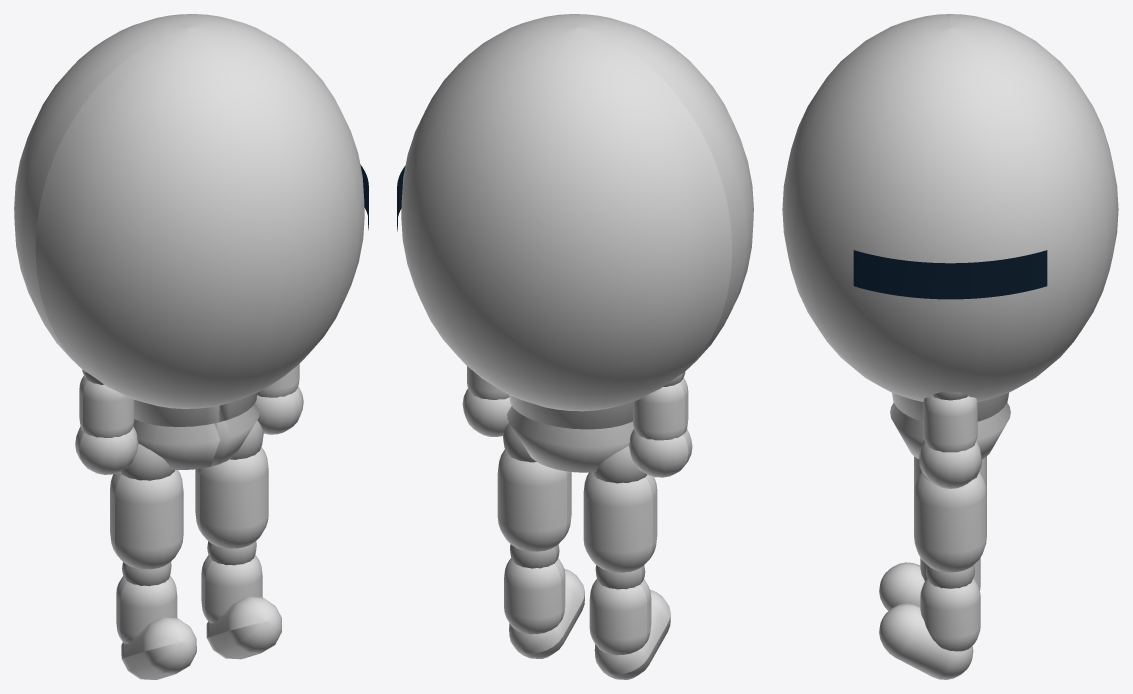
File: chibi.glb
The picture shows the model from 3 angles, left to right: view 1: azimuth 30°, elevation 25°; view 2: azimuth 150°, elevation 25°; view 3: azimuth 270°, elevation 25°; orthographic projection. The views are drawn at different scales.
Parts seen in each view (by area): view 1: HeadMesh, Torso, Thigh_L, Thigh_R, Foot_L, Foot_R, Shin_R, Shin_L, ForeArm_L, Hand_L, Hand_R, Joint_LH (+4 smaller); view 2: HeadMesh, Torso, Thigh_L, Thigh_R, Shin_L, Shin_R, ForeArm_L, Foot_R, Foot_L, Hand_L, Hand_R, Joint_LH (+4 smaller); view 3: HeadMesh, Visor, Thigh_R, Foot_R, Shin_R, Torso, ForeArm_R, Hand_R, Foot_L, Joint_RK.
Boxes of the visible parts, x1=… form: HeadMesh: x1=14, y1=14, x2=364, y2=408; Torso: x1=133, y1=393, x2=259, y2=469; Thigh_L: x1=110, y1=470, x2=183, y2=569; Thigh_R: x1=195, y1=447, x2=268, y2=548; Foot_L: x1=121, y1=617, x2=196, y2=679; Foot_R: x1=206, y1=596, x2=281, y2=659; Shin_R: x1=201, y1=555, x2=262, y2=623; Shin_L: x1=116, y1=575, x2=177, y2=643; ForeArm_L: x1=79, y1=376, x2=134, y2=437; Hand_L: x1=75, y1=426, x2=138, y2=474; Hand_R: x1=255, y1=386, x2=303, y2=434; Joint_LH: x1=120, y1=443, x2=174, y2=480; HeadMesh: x1=401, y1=14, x2=753, y2=411; Torso: x1=507, y1=395, x2=633, y2=472; Thigh_L: x1=583, y1=472, x2=657, y2=572; Thigh_R: x1=497, y1=449, x2=571, y2=551; Shin_L: x1=589, y1=579, x2=651, y2=655; Shin_R: x1=504, y1=558, x2=565, y2=634; ForeArm_L: x1=633, y1=378, x2=688, y2=440; Foot_R: x1=509, y1=568, x2=584, y2=658; Foot_L: x1=594, y1=589, x2=670, y2=679; Hand_L: x1=628, y1=429, x2=692, y2=477; Hand_R: x1=462, y1=388, x2=511, y2=436; Joint_LH: x1=592, y1=446, x2=647, y2=483; HeadMesh: x1=782, y1=14, x2=1118, y2=401; Visor: x1=853, y1=250, x2=1047, y2=299; Thigh_R: x1=914, y1=472, x2=986, y2=572; Foot_R: x1=879, y1=603, x2=973, y2=679; Shin_R: x1=920, y1=578, x2=980, y2=651; Torso: x1=890, y1=392, x2=1010, y2=459; ForeArm_R: x1=923, y1=396, x2=977, y2=452; Hand_R: x1=920, y1=440, x2=980, y2=488; Foot_L: x1=879, y1=562, x2=924, y2=610; Joint_RK: x1=926, y1=565, x2=974, y2=588.
Bounding box in the file's own units: 0.5837 × 1.14 × 0.5548.
